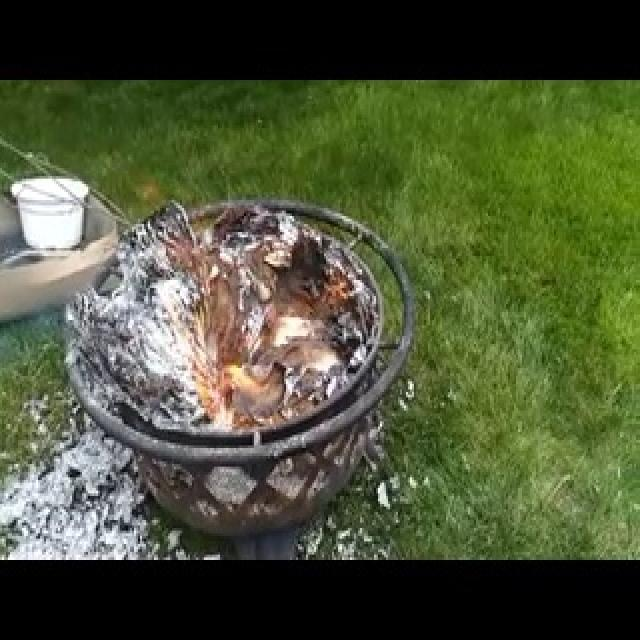Fire: (171, 292, 303, 444)
